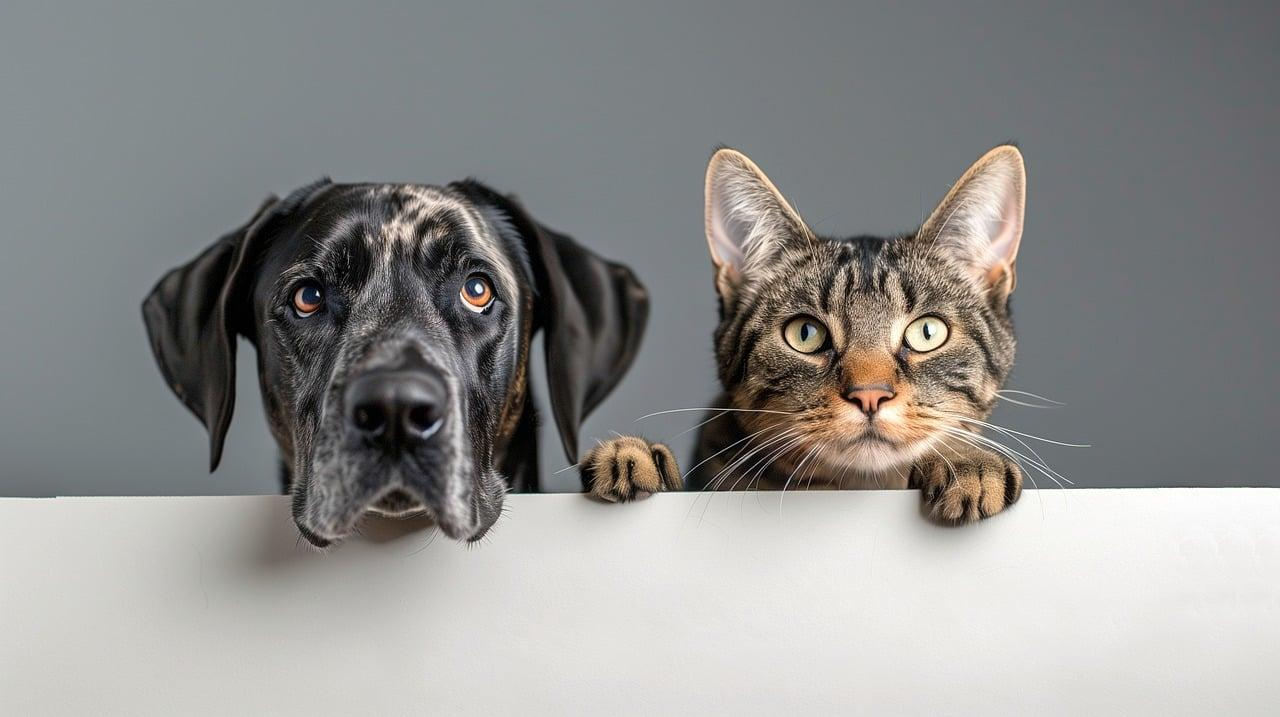CAT: (632, 160, 1070, 530)
DOG: (139, 175, 621, 549)
